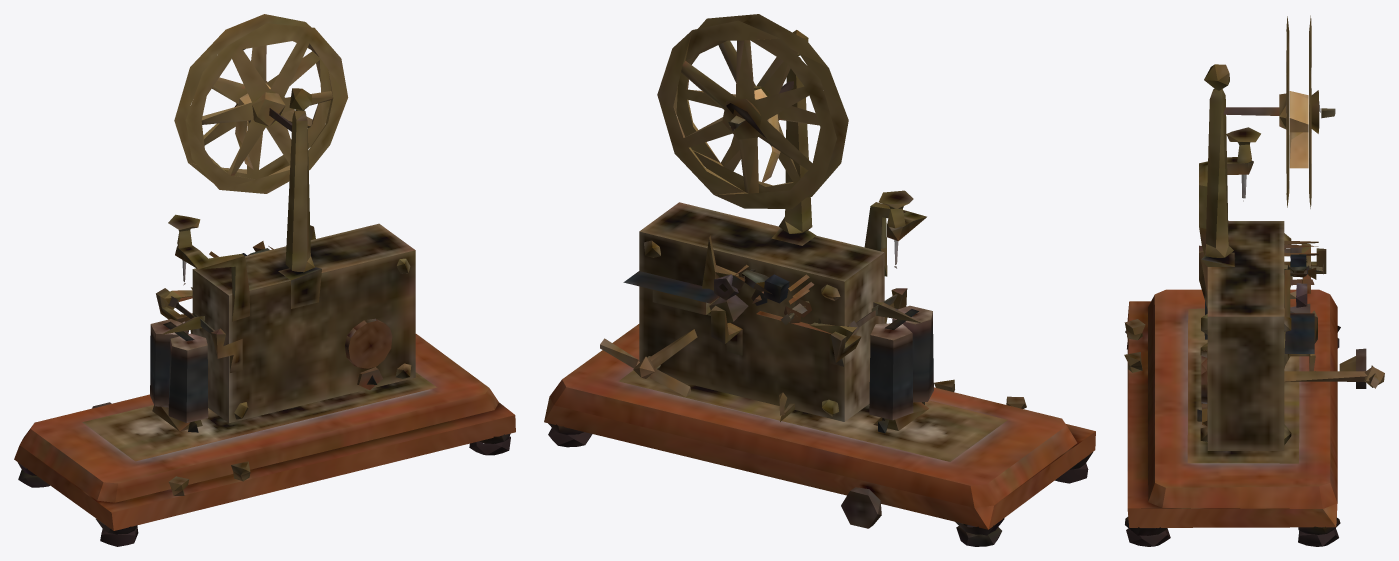
Rendered from telegraph-apparatus.lod1.glb.
The picture shows the model from 3 angles, left to right: view 1: azimuth 30°, elevation 25°; view 2: azimuth 150°, elevation 25°; view 3: azimuth 270°, elevation 25°; orthographic projection. The views are drawn at different scales.
Visible parts, largest first — view 1: telegraph-apparatus; view 2: telegraph-apparatus; view 3: telegraph-apparatus.
Part boxes in pixels (x1,y1,x2,y2): telegraph-apparatus: [14, 14, 515, 546]; telegraph-apparatus: [544, 14, 1095, 546]; telegraph-apparatus: [1124, 15, 1384, 546].
Size of the model in its own units: 0.7211 by 0.7006 by 0.3786.
Materials: 1 (1 with a texture image).
